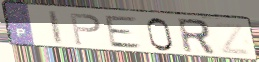0: (145, 17, 175, 53)
E: (103, 15, 145, 50)
I: (47, 10, 65, 47)
P: (68, 12, 103, 47)
R: (175, 17, 218, 56)
Z: (212, 21, 253, 57)
